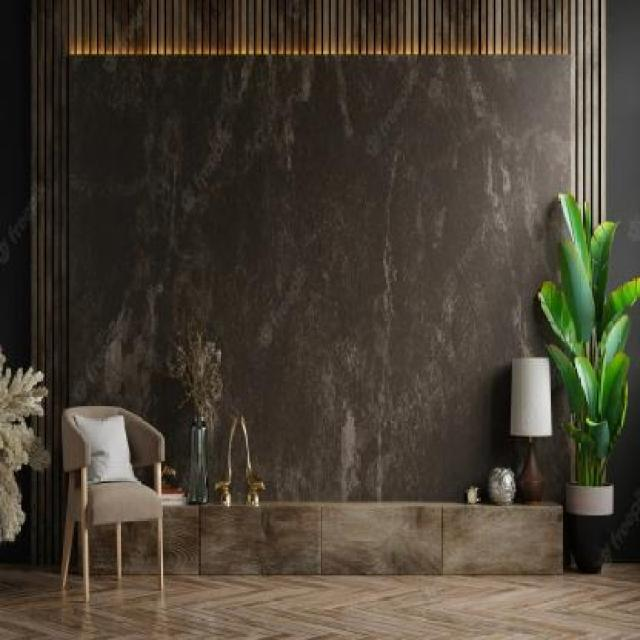floor: (0, 555, 640, 640)
